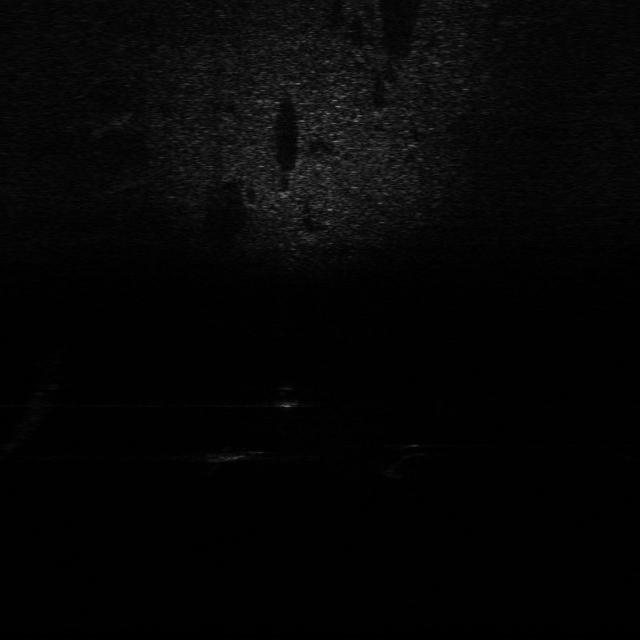ball: (268, 382, 303, 407)
square cage: (203, 439, 264, 464)
tyre: (377, 438, 443, 482)
